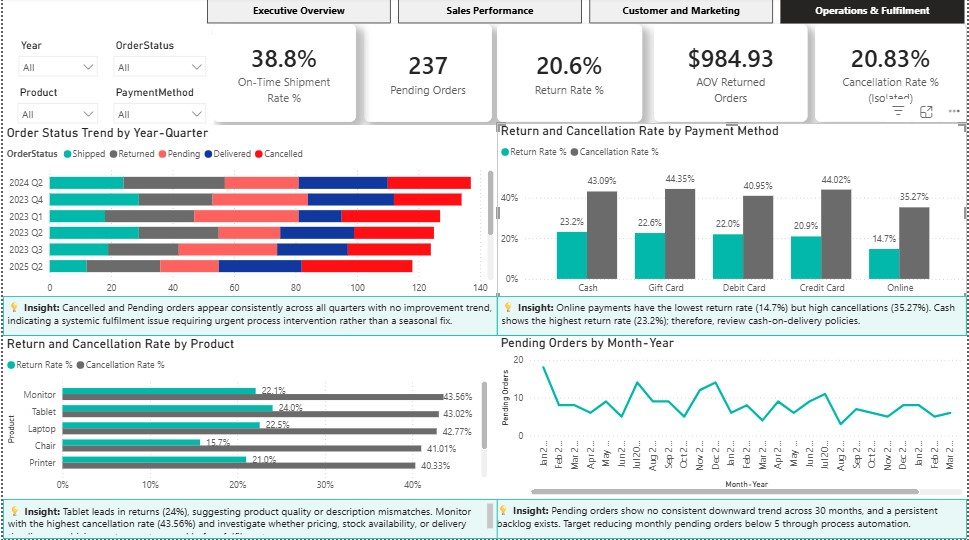

This screenshot's page, from the dashboard's own definition file:
{"tool":"powerbi","page":{"name":"Operations & Fulfilment","canvas":[1280,720],"ordinal":3},"visuals":[{"type":"cardVisual","fields":{"Data":["_Measures.Pending Orders"]},"box":[479.1,35.8,170.1,129.9],"z":0},{"type":"cardVisual","fields":{"Data":["_Measures.Return Rate %"]},"box":[656,35.8,192.5,129.9],"z":1000},{"type":"cardVisual","fields":{"Data":["_Measures.AOV Returned Orders"]},"box":[864.2,35.8,204.5,129.9],"z":2000},{"type":"cardVisual","fields":{"Data":["_Measures.Cancellation Rate % (Isolated)"]},"box":[1079.1,35.8,201.5,129.9],"z":3000},{"type":"cardVisual","fields":{"Data":["_Measures.On-Time Shipment Rate %"]},"box":[279.1,35.8,189.6,129.9],"z":4000},{"type":"slicer","fields":{"Values":["DateDim.Year"]},"box":[11,50.8,125.5,59.8],"z":5000},{"type":"slicer","fields":{"Values":["Order.Product"]},"box":[9.5,113.5,127,55.3],"z":6000},{"type":"slicer","fields":{"Values":["Order.OrderStatus"]},"box":[136.4,50.8,143.4,62.7],"z":7000},{"type":"slicer","fields":{"Values":["Order.PaymentMethod"]},"box":[136.4,113.5,143.4,55.3],"z":8000},{"type":"pageNavigator","box":[271,0,1009.6,35.9],"z":9000},{"type":"barChart","title":"Order Status Trend by Year-Quarter","fields":{"Y":["_Measures.Total Orders"],"Series":["Order.OrderStatus"],"Category":["DateDim.YearQuarter"]},"box":[0,170.1,656.7,235.1],"z":10000},{"type":"clusteredBarChart","title":"Return and Cancellation Rate by Product","fields":{"Category":["Order.Product"],"Y":["_Measures.Return Rate %","_Measures.Cancellation Rate %"]},"box":[0,450.5,648.5,216.5],"z":11000},{"type":"clusteredColumnChart","title":"Return and Cancellation Rate by Payment Method","fields":{"Category":["Order.PaymentMethod"],"Y":["_Measures.Return Rate %","_Measures.Cancellation Rate %"]},"box":[656.7,168,623.7,237.1],"z":12000},{"type":"lineChart","fields":{"Y":["_Measures.Pending Orders"],"Category":["DateDim.Month-Year"]},"box":[656.7,449.5,623.7,217.5],"z":13000},{"type":"textbox","box":[0,396.9,656.7,52.6],"z":14000},{"type":"textbox","box":[656.7,396.9,623.7,52.6],"z":15000},{"type":"textbox","box":[656.3,396.9,623.7,52.6],"z":16000},{"type":"textbox","box":[1001,887.6,623.7,52.6],"z":17000},{"type":"textbox","box":[649.6,666.9,631,53.1],"z":18000},{"type":"textbox","box":[0,666.7,656.9,52.8],"z":19000}]}

Visuals, with their boxes in screenshot pixels (x1, y1, x2, y2), scaled from the page's 1280x720 canvas onto the 969x540 screenshot:
cardVisual - _Measures.Pending Orders: crop(363, 27, 491, 124)
cardVisual - _Measures.Return Rate %: crop(497, 27, 642, 124)
cardVisual - _Measures.AOV Returned Orders: crop(654, 27, 809, 124)
cardVisual - _Measures.Cancellation Rate % (Isolated): crop(817, 27, 968, 124)
cardVisual - _Measures.On-Time Shipment Rate %: crop(211, 27, 355, 124)
slicer - DateDim.Year: crop(8, 38, 103, 83)
slicer - Order.Product: crop(7, 85, 103, 127)
slicer - Order.OrderStatus: crop(103, 38, 212, 85)
slicer - Order.PaymentMethod: crop(103, 85, 212, 127)
pageNavigator: crop(205, 0, 968, 27)
"Order Status Trend by Year-Quarter" barChart: crop(0, 128, 497, 304)
"Return and Cancellation Rate by Product" clusteredBarChart: crop(0, 338, 491, 500)
"Return and Cancellation Rate by Payment Method" clusteredColumnChart: crop(497, 126, 968, 304)
lineChart - _Measures.Pending Orders x DateDim.Month-Year: crop(497, 337, 968, 500)
textbox: crop(0, 298, 497, 337)
textbox: crop(497, 298, 968, 337)
textbox: crop(497, 298, 968, 337)
textbox: crop(492, 500, 968, 539)
textbox: crop(0, 500, 497, 539)
